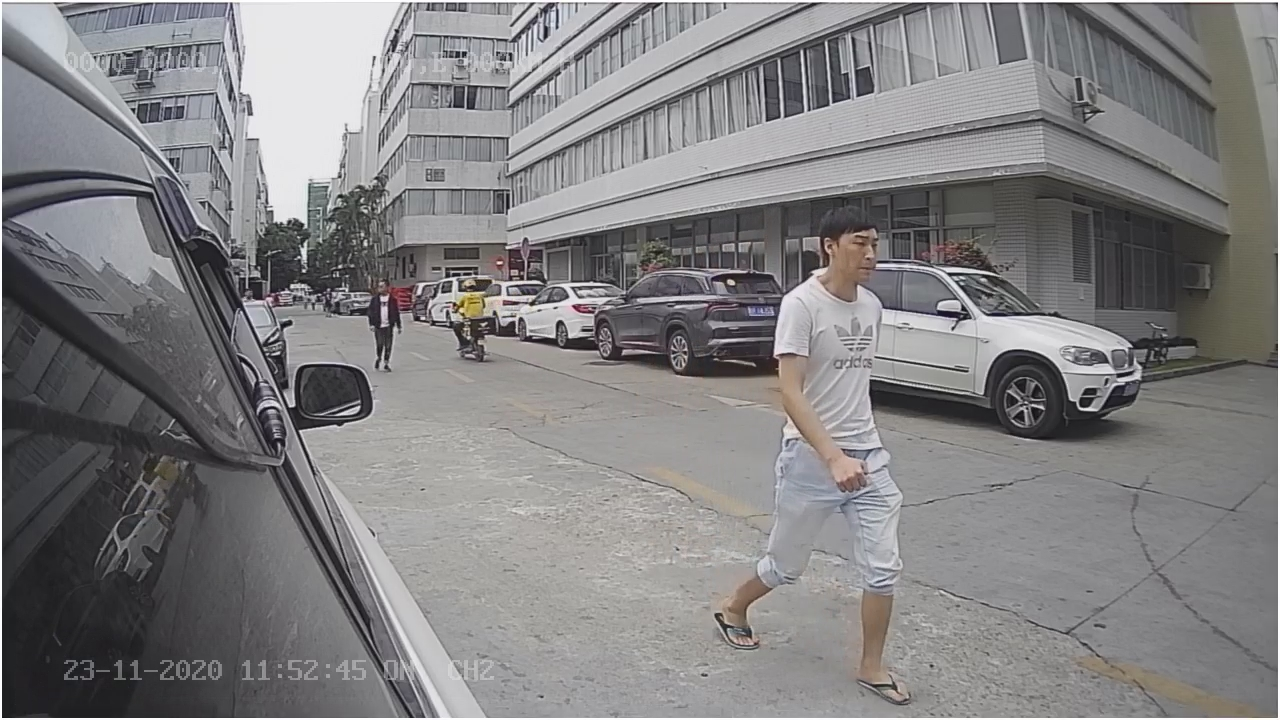person: (768, 210, 911, 685)
